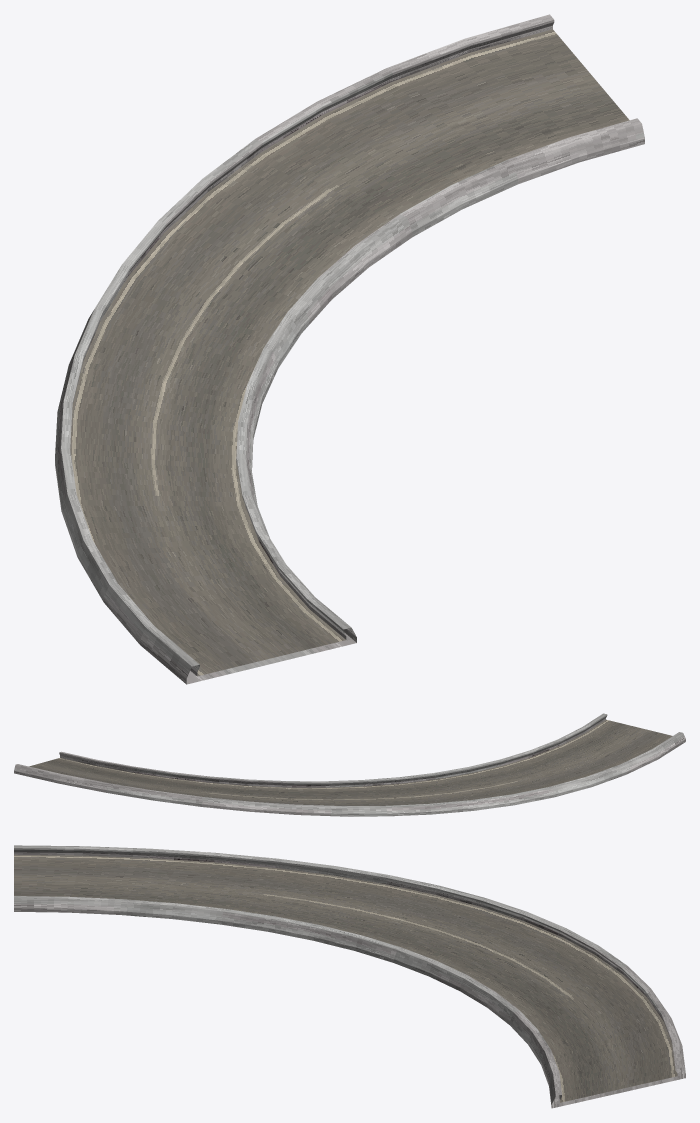
Rendered from road-Turn-Flat-HalfBankedRight-Up1-Right-Size5.glb.
3 views of the same model, one above another, from view 1: azimuth 30°, elevation 25°; view 2: azimuth 150°, elevation 25°; view 3: azimuth 270°, elevation 25° (orthographic). The views are drawn at different scales.
Visible parts, largest first — view 1: road-Turn-Flat-HalfBankedRight-Up1-Right-Size5; view 2: road-Turn-Flat-HalfBankedRight-Up1-Right-Size5; view 3: road-Turn-Flat-HalfBankedRight-Up1-Right-Size5.
Boxes of the visible parts, left/top/right/bottom form: road-Turn-Flat-HalfBankedRight-Up1-Right-Size5: left=55, top=14, right=644, bottom=684; road-Turn-Flat-HalfBankedRight-Up1-Right-Size5: left=14, top=713, right=685, bottom=816; road-Turn-Flat-HalfBankedRight-Up1-Right-Size5: left=14, top=845, right=685, bottom=1108.
Size of the model in its own units: 5 by 0.5859 by 5.
2 materials, 2 textured.
